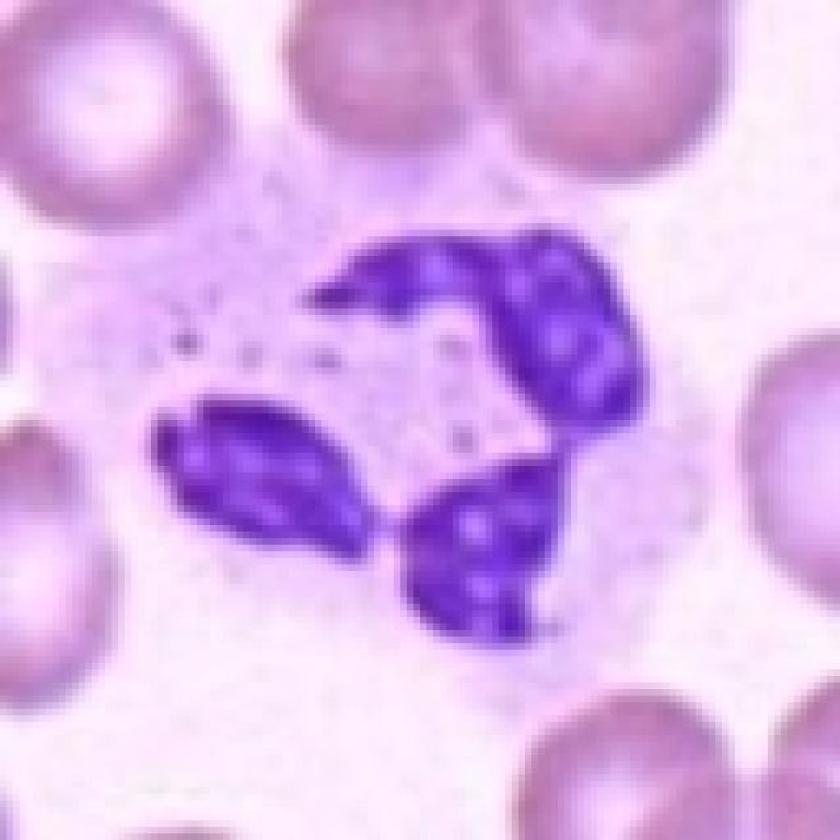neutrophil: (45, 115, 726, 720)
